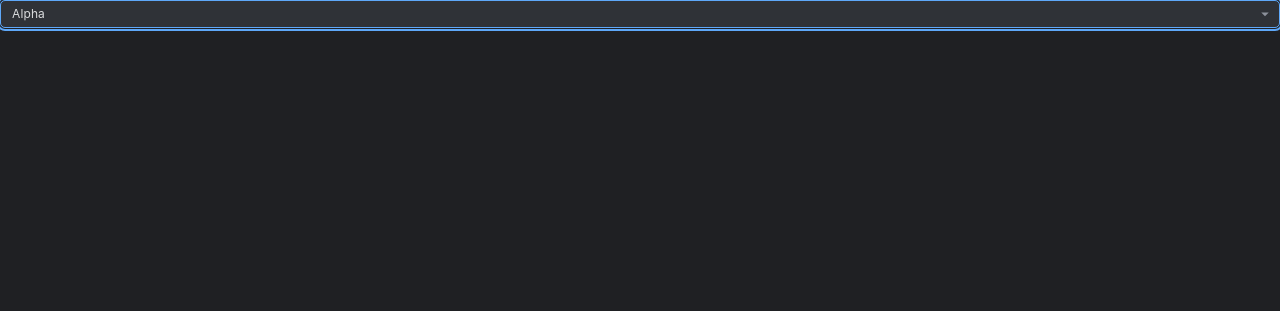
Scenario: searchable single-value dropdowns › opens from the keyboard, filters by a case-insensitive substring and commits only a listed value
Press ArrowDown in the dropdown named "Target", box [12, 6, 45, 21]
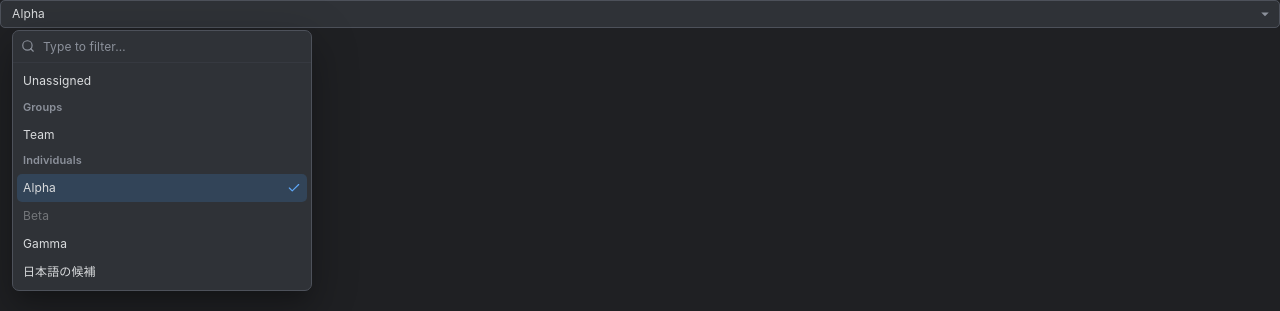
Now the dropdown named "Target" is empty
Type "AMM" into the dropdown named "Target" at (173, 46), box [43, 36, 303, 56]
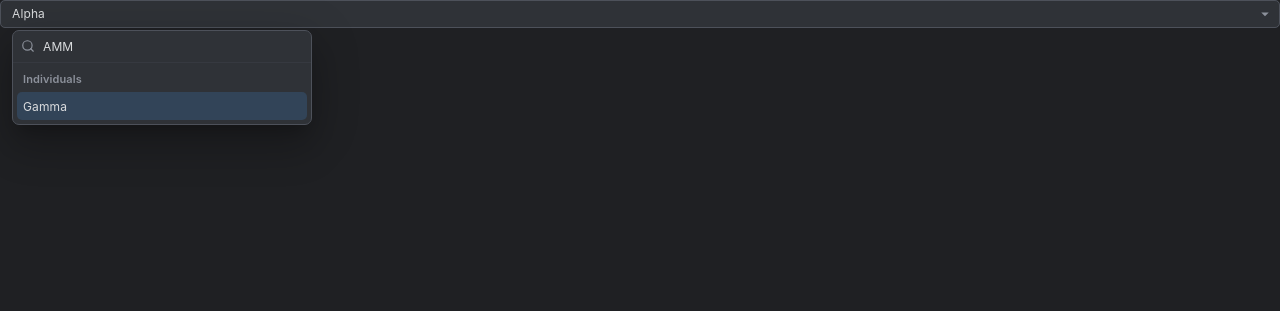
Now the options read "Gamma", in this order, box [17, 92, 307, 120]
Press Enter in the dropdown named "Target", box [43, 36, 303, 56]
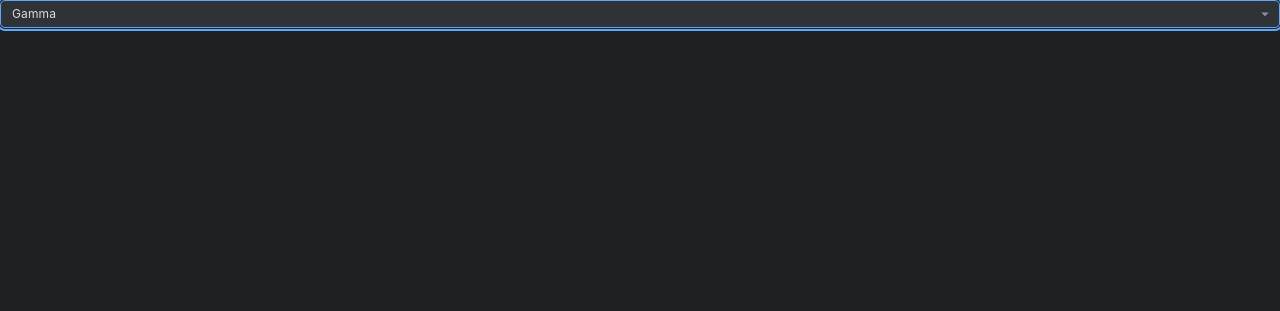
Now the dropdown named "Target" reads "Gamma", box [12, 6, 56, 21]
Now the list is gone
